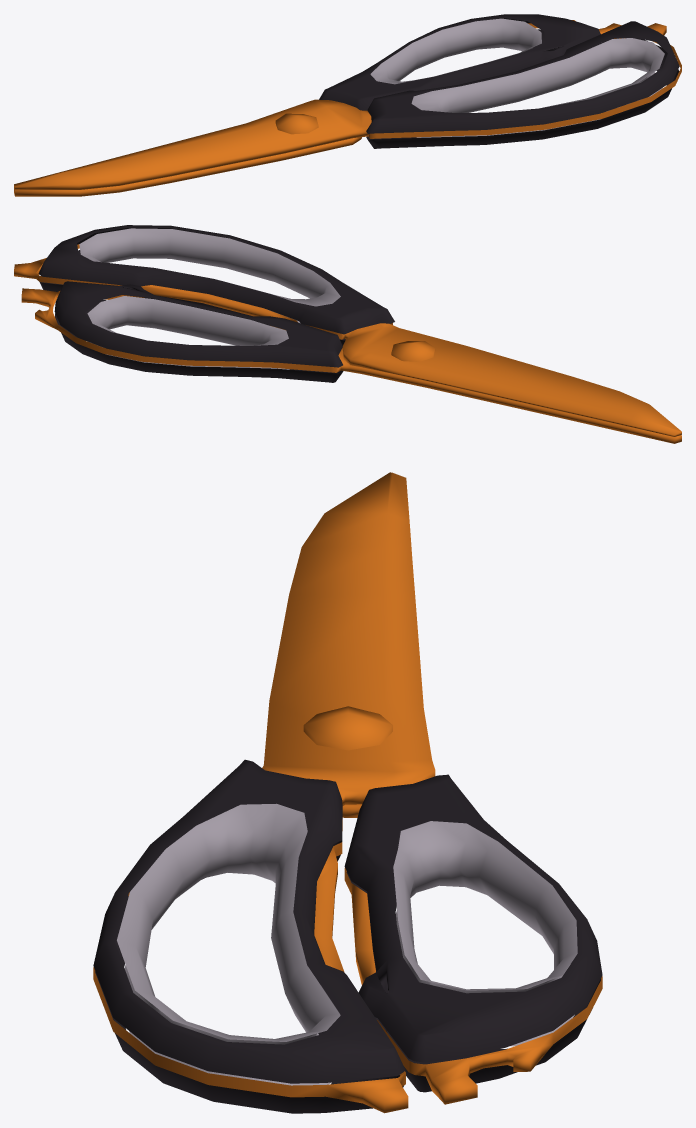
File: Scissors.glb
3 renders of one model, top to bottom at view 1: azimuth 30°, elevation 25°; view 2: azimuth 150°, elevation 25°; view 3: azimuth 270°, elevation 25°, orthographic. The views are drawn at different scales.
Visible parts, largest first — view 1: huitugou_2062_432, huitugou_2062_430, huitugou_2062_431; view 2: huitugou_2062_432, huitugou_2062_430, huitugou_2062_431; view 3: huitugou_2062_432, huitugou_2062_430, huitugou_2062_431.
Part boxes in pixels (left/top/right/bottom): huitugou_2062_432: left=319, top=14, right=679, bottom=148; huitugou_2062_430: left=14, top=20, right=681, bottom=196; huitugou_2062_431: left=370, top=18, right=664, bottom=137; huitugou_2062_432: left=38, top=225, right=394, bottom=382; huitugou_2062_430: left=14, top=244, right=681, bottom=443; huitugou_2062_431: left=79, top=228, right=340, bottom=369; huitugou_2062_432: left=93, top=759, right=602, bottom=1113; huitugou_2062_430: left=93, top=472, right=602, bottom=1113; huitugou_2062_431: left=117, top=803, right=577, bottom=1085.
Bounding box in the file's own units: 0.1988 × 0.0102 × 0.0674.
